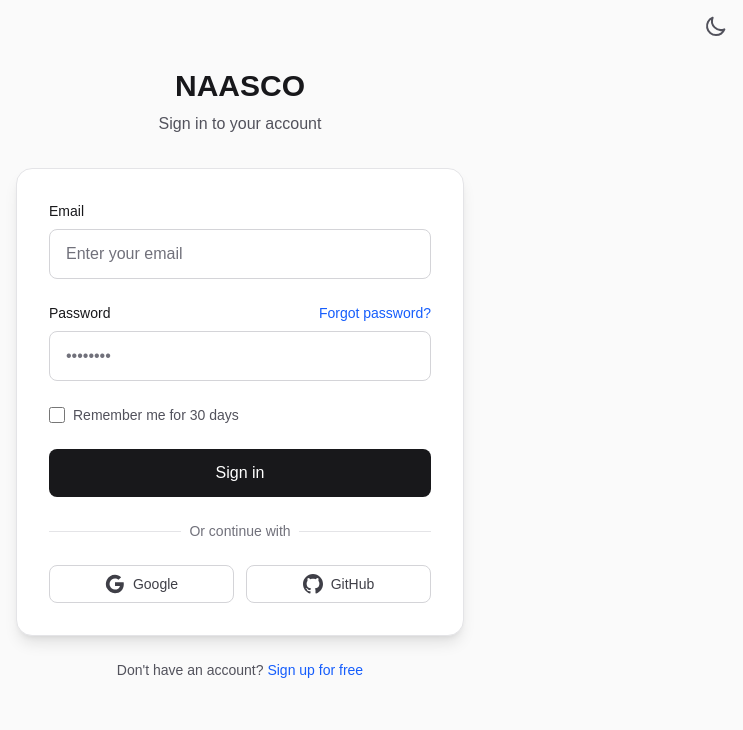
Test: LoginForm › Form Submission - Failure › displays error message on failed login
The image size is (743, 730).
Type "test@example.com" into the field labelled "Email" at (240, 254), box x1=49 y1=229 x2=431 y2=279
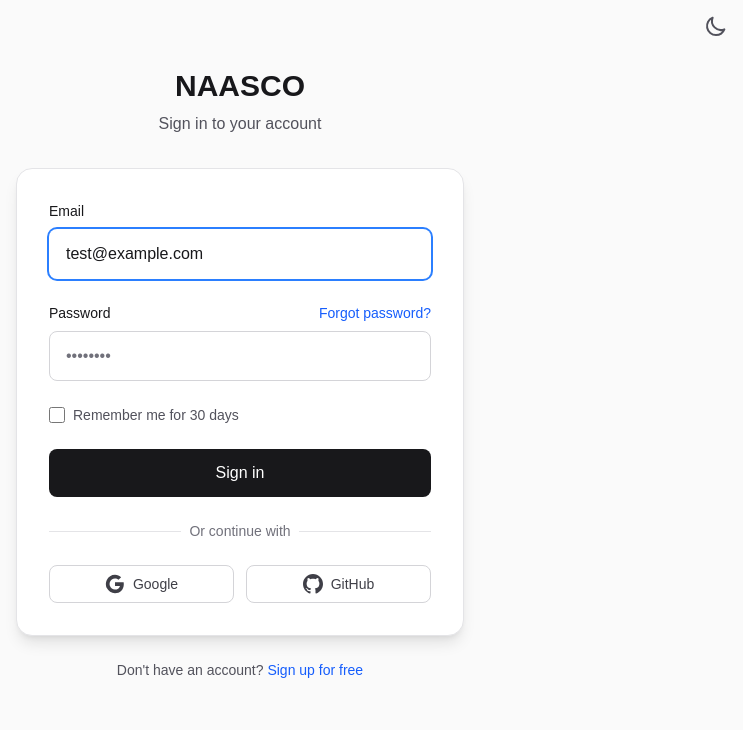
Type "wrongpassword" into the password field labelled "Password" at (240, 356), box x1=49 y1=331 x2=431 y2=381
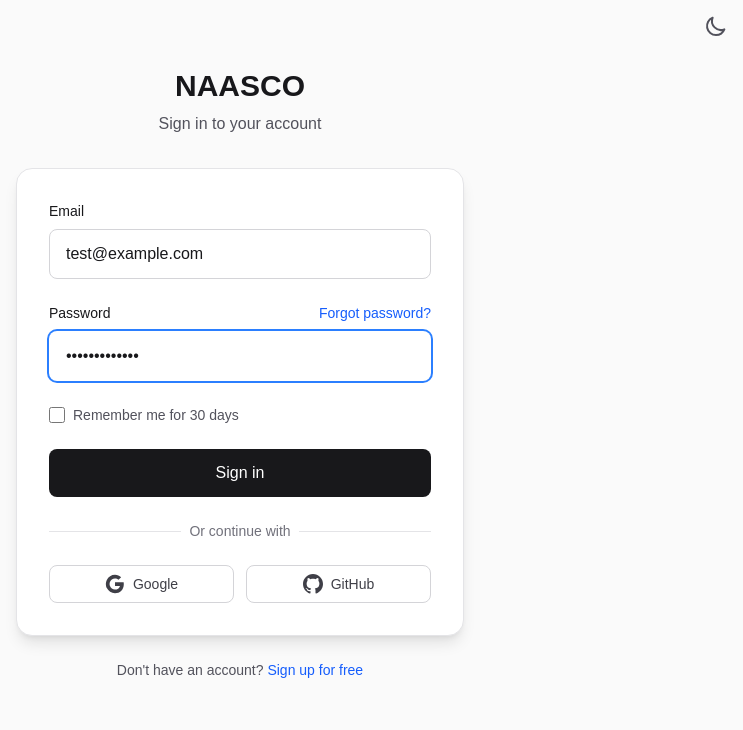
Click the button "Sign in" at (240, 473), box x1=49 y1=449 x2=431 y2=497
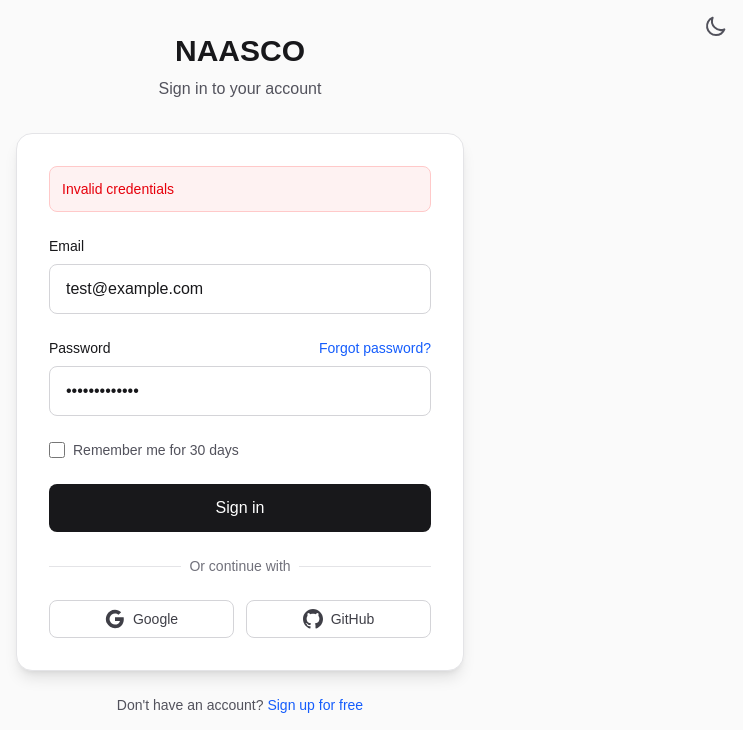
Result: the text "Invalid credentials" is shown at x1=62 y1=181 x2=174 y2=197
